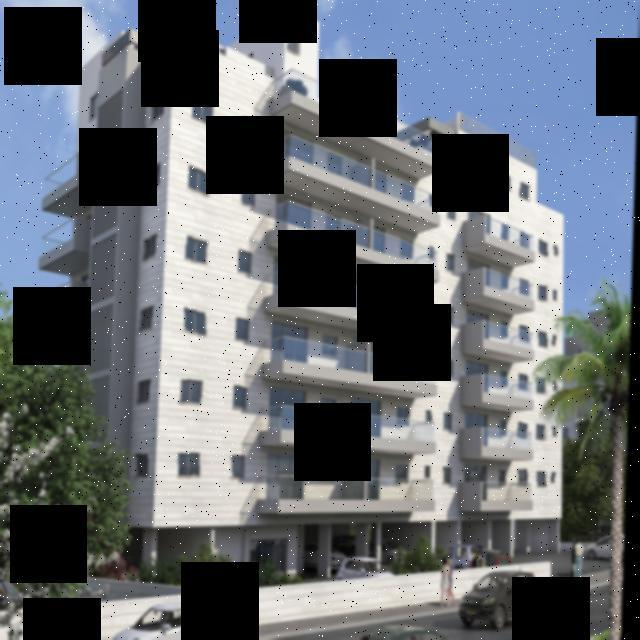Window: (187, 162, 214, 200), (180, 377, 208, 410), (183, 306, 211, 337), (178, 448, 204, 481), (184, 234, 213, 263), (468, 154, 494, 185), (192, 95, 216, 127), (147, 90, 167, 126), (144, 160, 164, 193), (144, 231, 160, 268), (140, 303, 158, 335), (242, 114, 260, 146), (138, 377, 156, 408), (239, 180, 257, 211), (236, 313, 252, 344), (238, 247, 255, 276), (134, 450, 152, 477), (327, 211, 344, 236), (287, 30, 301, 60), (229, 455, 248, 477), (328, 150, 344, 176), (234, 386, 251, 410), (325, 274, 343, 296), (320, 459, 339, 479), (324, 335, 341, 357), (322, 397, 340, 417), (400, 292, 416, 314), (89, 89, 100, 119), (399, 348, 414, 370), (402, 237, 416, 260), (402, 182, 416, 204), (399, 406, 414, 425), (398, 464, 412, 483), (502, 168, 512, 194), (539, 329, 550, 352), (520, 181, 533, 200), (539, 284, 551, 304), (538, 239, 552, 256), (448, 199, 458, 222), (447, 302, 457, 325), (539, 375, 550, 395), (444, 465, 454, 487), (520, 326, 532, 344), (448, 251, 457, 275), (446, 411, 456, 432), (520, 278, 532, 295), (520, 231, 532, 248), (520, 421, 531, 439), (446, 359, 456, 378), (539, 470, 550, 487), (540, 422, 550, 440), (520, 374, 532, 389), (520, 470, 531, 486), (502, 271, 512, 288), (502, 320, 510, 341), (501, 418, 510, 436), (501, 370, 510, 387), (502, 224, 510, 240), (428, 354, 436, 369), (502, 469, 509, 486), (553, 333, 560, 349), (552, 378, 560, 392), (428, 409, 436, 423), (430, 300, 437, 316), (552, 244, 560, 257), (425, 467, 433, 480), (430, 246, 436, 262), (431, 192, 437, 208), (554, 470, 560, 485), (554, 290, 560, 304), (554, 424, 560, 438)
